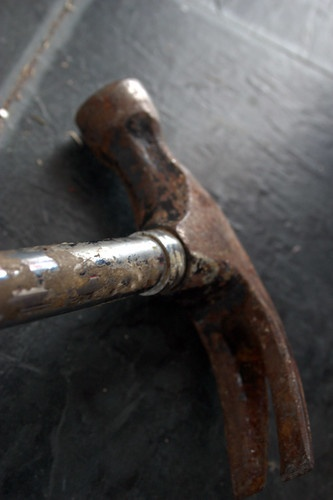hammer: (1, 65, 316, 478)
